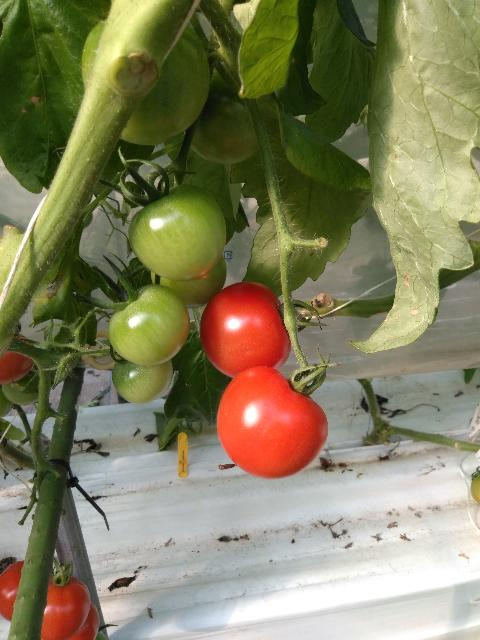l_fully_ripened: (217, 367, 329, 478), (200, 282, 292, 377), (41, 576, 90, 640), (1, 560, 25, 621), (70, 601, 100, 639)
l_green: (82, 10, 209, 145), (128, 185, 226, 282), (184, 63, 261, 165), (109, 285, 191, 365), (151, 255, 227, 308), (112, 359, 173, 403)
